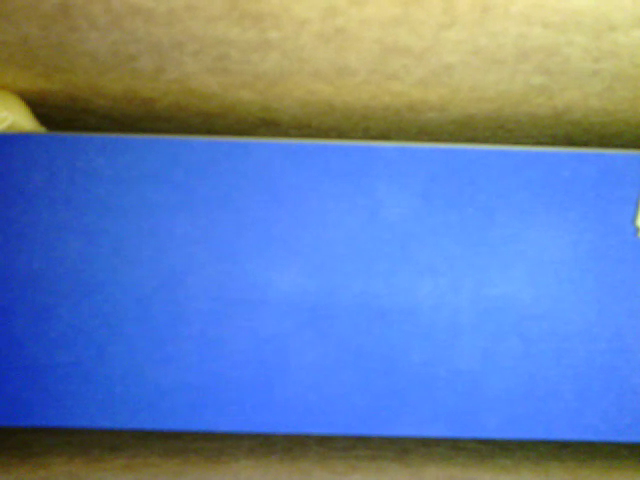shell: (1, 85, 46, 133)
